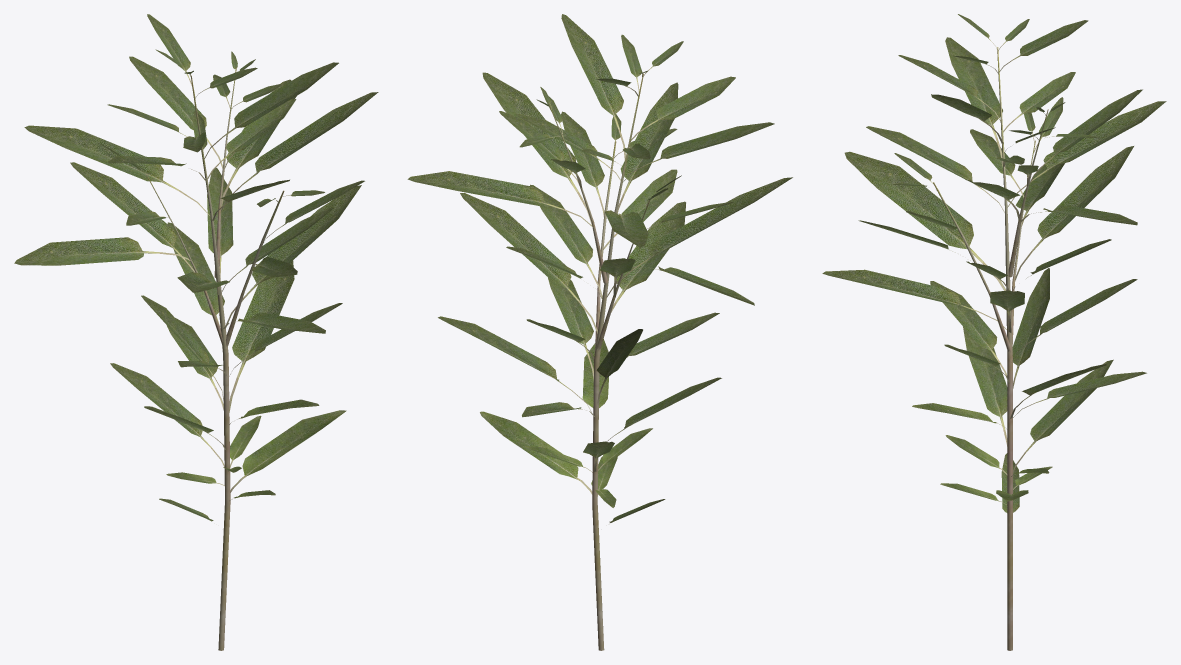
File: Sage2.fbx
3 renders of one model, left to right at view 1: azimuth 30°, elevation 25°; view 2: azimuth 150°, elevation 25°; view 3: azimuth 270°, elevation 25°, orthographic.
Visible parts, largest first — view 1: Sage2; view 2: Sage2; view 3: Sage2.
Part boxes in pixels (x1,y1,x2,y2): Sage2: (14, 14, 378, 650); Sage2: (407, 14, 792, 650); Sage2: (822, 14, 1166, 650).
Bounding box in the file's own units: 39.58 × 71.91 × 36.69.
